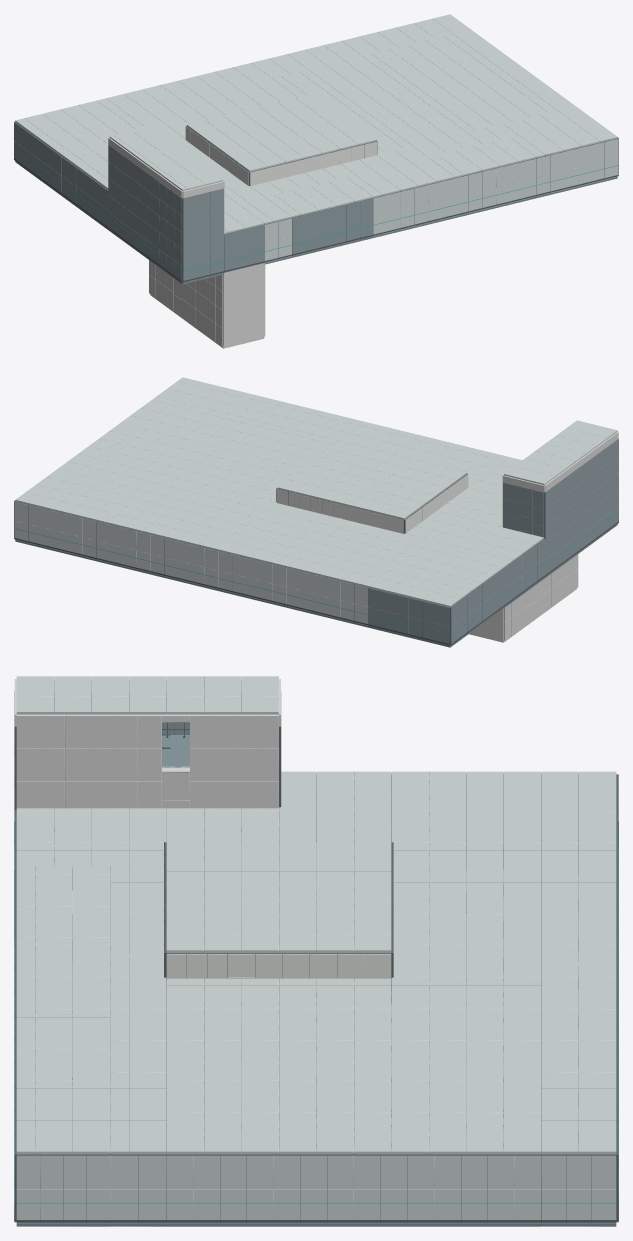
Rendered from LC_B4_Architecture.fbx.
3 renders of one model, top to bottom at view 1: azimuth 30°, elevation 25°; view 2: azimuth 150°, elevation 25°; view 3: azimuth 270°, elevation 25°, orthographic. The views are drawn at different scales.
Parts seen in each view (by area): view 1: LC_B4_B4_Service_5_3, LC_B4_LP_WallSteel_5_3, LC_B4_B4_Ceiling_1_1, LC_B4_B4_Ceiling_1_2, LC_B4_B4_Ceiling_5_0, LC_B4_B4_Ceiling_2_3, LC_B4_B4_Ceiling_1_0, LC_B4_B4_Ceiling_0_3, LC_B4_B4_Ceiling_3_2, LC_B4_B4_Panel_1_3, LC_B4_B4_Ceiling_3_0, LC_B4_B4_Ceiling_2_0 (+28 smaller); view 2: LC_B4_B4_Service_5_2, LC_B4_B4_Service_5_0, LC_B4_B4_Service_5_3, LC_B4_B4_Ceiling_5_0, LC_B4_B4_Ceiling_5_1, LC_B4_B4_Ceiling_1_1, LC_B4_B4_Ceiling_1_2, LC_B4_B4_Ceiling_1_0, LC_B4_B4_Ceiling_3_1, LC_B4_B4_Ceiling_3_0, LC_B4_B4_Ceiling_2_0, LC_B4_B4_Panel_1_0 (+31 smaller); view 3: LC_B4_LP_WallSteel_5_3, LC_B4_B4_Ceiling_5_3, LC_B4_B4_Ceiling_1_1, LC_B4_B4_Ceiling_1_2, LC_B4_B4_Ceiling_5_0, LC_B4_B4_Panel_0_2, LC_B4_B4_Ceiling_5_1, LC_B4_B4_Panel_0_0, LC_B4_B4_Ceiling_5_2, LC_B4_B4_Ceiling_2_3, LC_B4_B4_Ceiling_1_0, LC_B4_B4_Panel_0_3 (+27 smaller).
Boxes of the visible parts, bbox=[...] form: LC_B4_B4_Service_5_3: bbox=[137, 166, 251, 282]; LC_B4_LP_WallSteel_5_3: bbox=[108, 137, 264, 346]; LC_B4_B4_Ceiling_1_1: bbox=[347, 60, 469, 110]; LC_B4_B4_Ceiling_1_2: bbox=[389, 91, 511, 141]; LC_B4_B4_Ceiling_5_0: bbox=[15, 100, 135, 151]; LC_B4_B4_Ceiling_2_3: bbox=[359, 141, 481, 191]; LC_B4_B4_Ceiling_1_0: bbox=[305, 32, 428, 80]; LC_B4_B4_Ceiling_0_3: bbox=[504, 106, 617, 155]; LC_B4_B4_Ceiling_3_2: bbox=[244, 113, 358, 162]; LC_B4_B4_Panel_1_3: bbox=[469, 155, 550, 212]; LC_B4_B4_Ceiling_3_0: bbox=[160, 67, 273, 115]; LC_B4_B4_Ceiling_2_0: bbox=[233, 50, 346, 97]; LC_B4_B4_Service_5_2: bbox=[503, 471, 574, 581]; LC_B4_B4_Service_5_0: bbox=[381, 579, 490, 645]; LC_B4_B4_Service_5_3: bbox=[575, 439, 618, 554]; LC_B4_B4_Ceiling_5_0: bbox=[369, 555, 491, 607]; LC_B4_B4_Ceiling_5_1: bbox=[411, 525, 533, 576]; LC_B4_B4_Ceiling_1_1: bbox=[121, 454, 243, 504]; LC_B4_B4_Ceiling_1_2: bbox=[163, 423, 285, 473]; LC_B4_B4_Ceiling_1_0: bbox=[88, 484, 201, 536]; LC_B4_B4_Ceiling_3_1: bbox=[275, 476, 388, 539]; LC_B4_B4_Ceiling_3_0: bbox=[233, 522, 346, 571]; LC_B4_B4_Ceiling_2_0: bbox=[160, 504, 273, 554]; LC_B4_B4_Panel_1_0: bbox=[82, 518, 163, 575]; LC_B4_LP_WallSteel_5_3: bbox=[14, 678, 241, 844]; LC_B4_B4_Ceiling_5_3: bbox=[16, 676, 166, 842]; LC_B4_B4_Ceiling_1_1: bbox=[316, 1025, 466, 1096]; LC_B4_B4_Ceiling_1_2: bbox=[166, 1025, 316, 1096]; LC_B4_B4_Ceiling_5_0: bbox=[466, 771, 616, 842]; LC_B4_B4_Panel_0_2: bbox=[166, 1155, 326, 1223]; LC_B4_B4_Ceiling_5_1: bbox=[316, 771, 466, 842]; LC_B4_B4_Panel_0_0: bbox=[461, 1095, 618, 1223]; LC_B4_B4_Ceiling_5_2: bbox=[166, 676, 316, 839]; LC_B4_B4_Ceiling_2_3: bbox=[16, 961, 166, 1032]; LC_B4_B4_Ceiling_1_0: bbox=[466, 1025, 616, 1096]; LC_B4_B4_Panel_0_3: bbox=[14, 1095, 166, 1223].
Size of the model in its own units: 4828 by 1780 by 3228.
